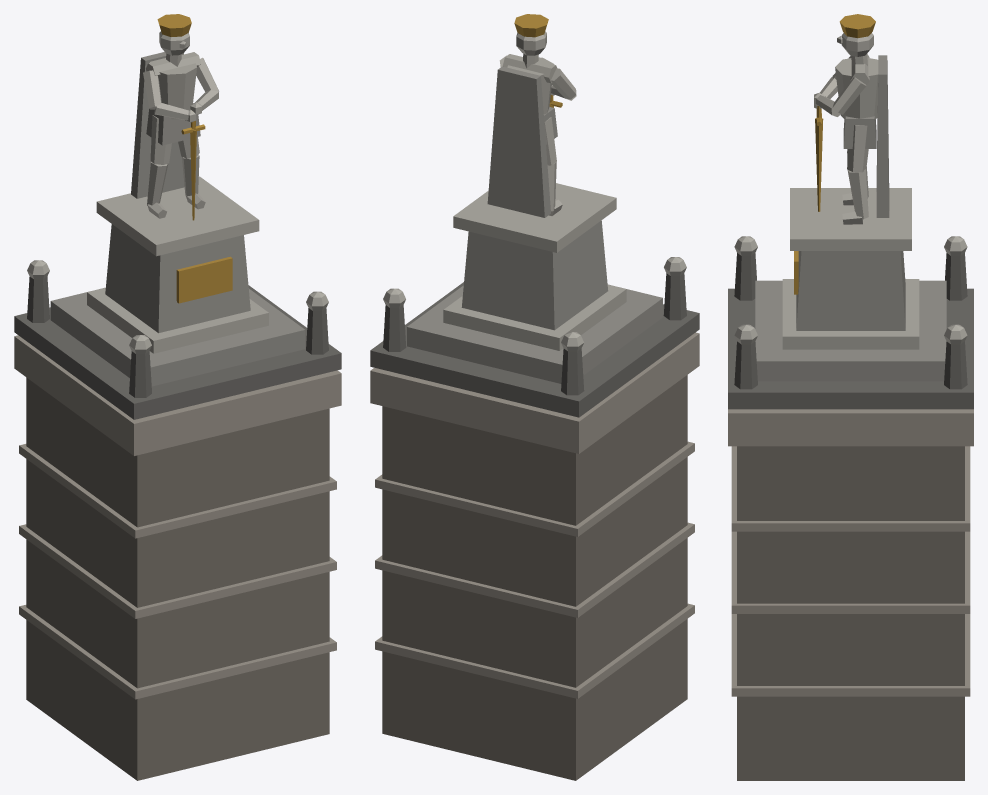
Rendered from decor_hero_statue.glb.
3 renders of one model, left to right at view 1: azimuth 30°, elevation 25°; view 2: azimuth 150°, elevation 25°; view 3: azimuth 270°, elevation 25°, orthographic. The views are drawn at different scales.
Visible parts, largest first — view 1: decor_hero_statue; view 2: decor_hero_statue; view 3: decor_hero_statue.
Boxes of the visible parts, left/top/right/bottom form: decor_hero_statue: left=14, top=14, right=341, bottom=780; decor_hero_statue: left=370, top=14, right=699, bottom=780; decor_hero_statue: left=728, top=14, right=973, bottom=780.
Bounding box in the file's own units: 2.7 × 8.62 × 2.7.
